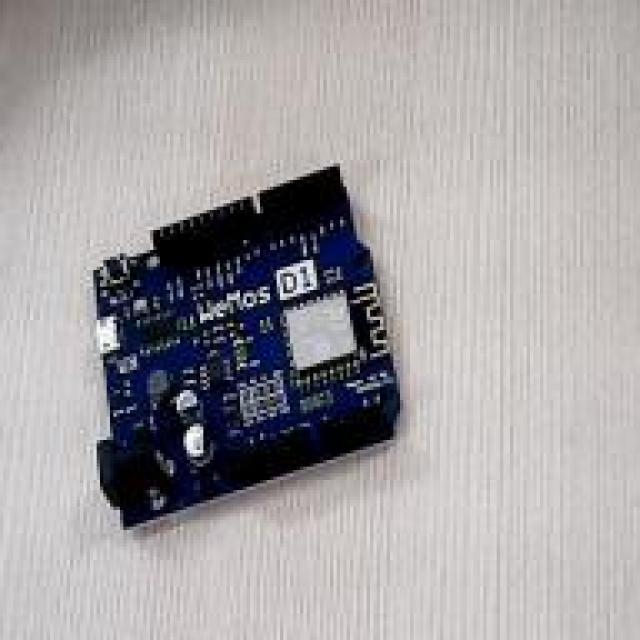Wemos: (94, 168, 394, 524)
